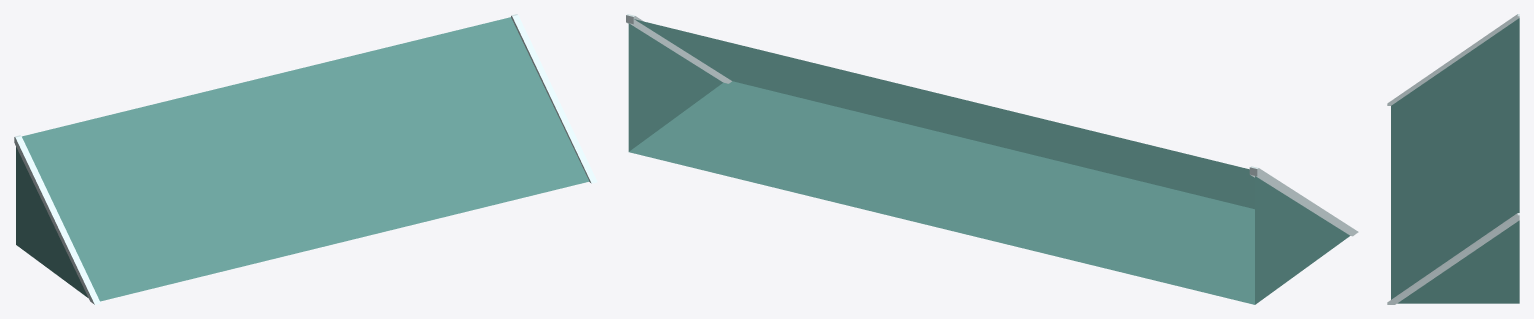
The model's file is slope floor 1.fbx.
3 renders of one model, left to right at view 1: azimuth 30°, elevation 25°; view 2: azimuth 150°, elevation 25°; view 3: azimuth 270°, elevation 25°, orthographic. The views are drawn at different scales.
Visible parts, largest first — view 1: 立方体.004, 立方体.003; view 2: 立方体.004, 立方体.003; view 3: 立方体.004, 立方体.003.
Part boxes in pixels (x1,y1,x2,y2): 立方体.004: (16,17,589,301); 立方体.003: (14,14,597,304); 立方体.004: (628,19,1349,304); 立方体.003: (626,14,1358,236); 立方体.004: (1391,18,1519,303); 立方体.003: (1387,14,1519,304).
Bounding box in the file's own units: 896 × 186 × 249.
